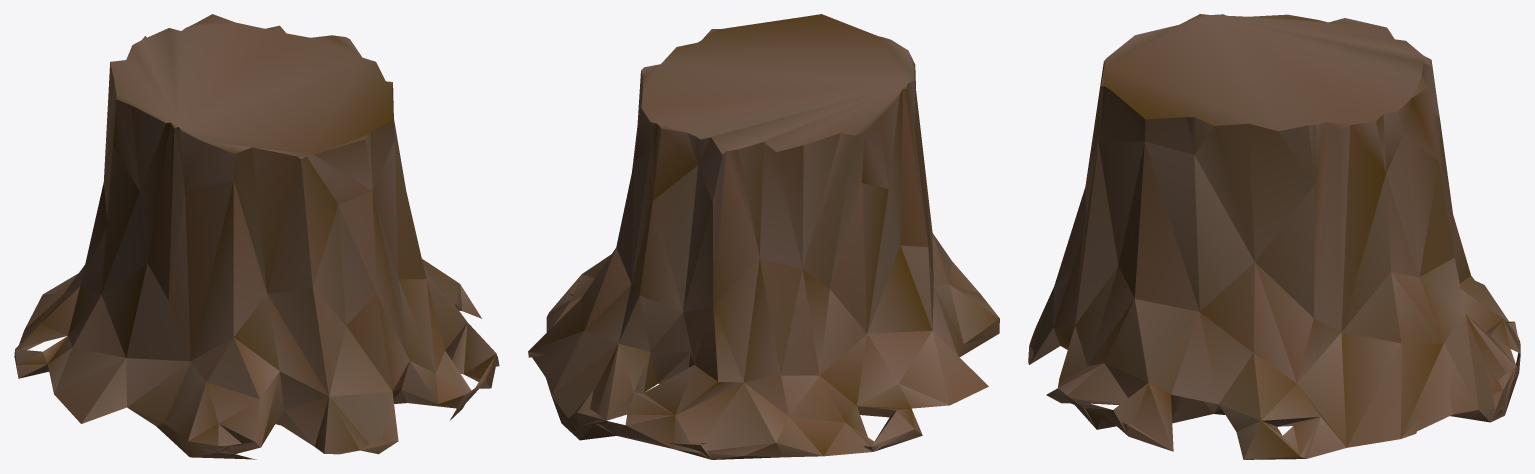
File: silverleaf_stump.glb
3 views of the same model, side by side, from view 1: azimuth 30°, elevation 25°; view 2: azimuth 150°, elevation 25°; view 3: azimuth 270°, elevation 25° (orthographic). The views are drawn at different scales.
Parts seen in each view (by area): view 1: Stump; view 2: Stump; view 3: Stump.
Part boxes in pixels (x1,y1,x2,y2): Stump: (14, 14, 499, 459); Stump: (528, 14, 999, 459); Stump: (1028, 14, 1520, 459).
Size of the model in its own units: 1.17 by 0.8234 by 1.2.
